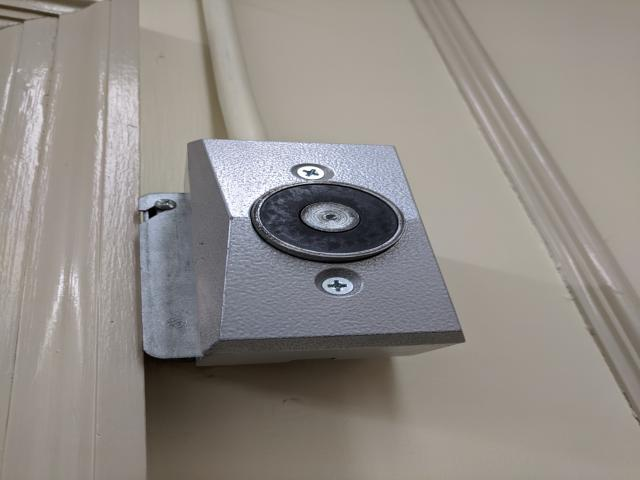CRS: (322, 278, 357, 296), (297, 165, 329, 179)
